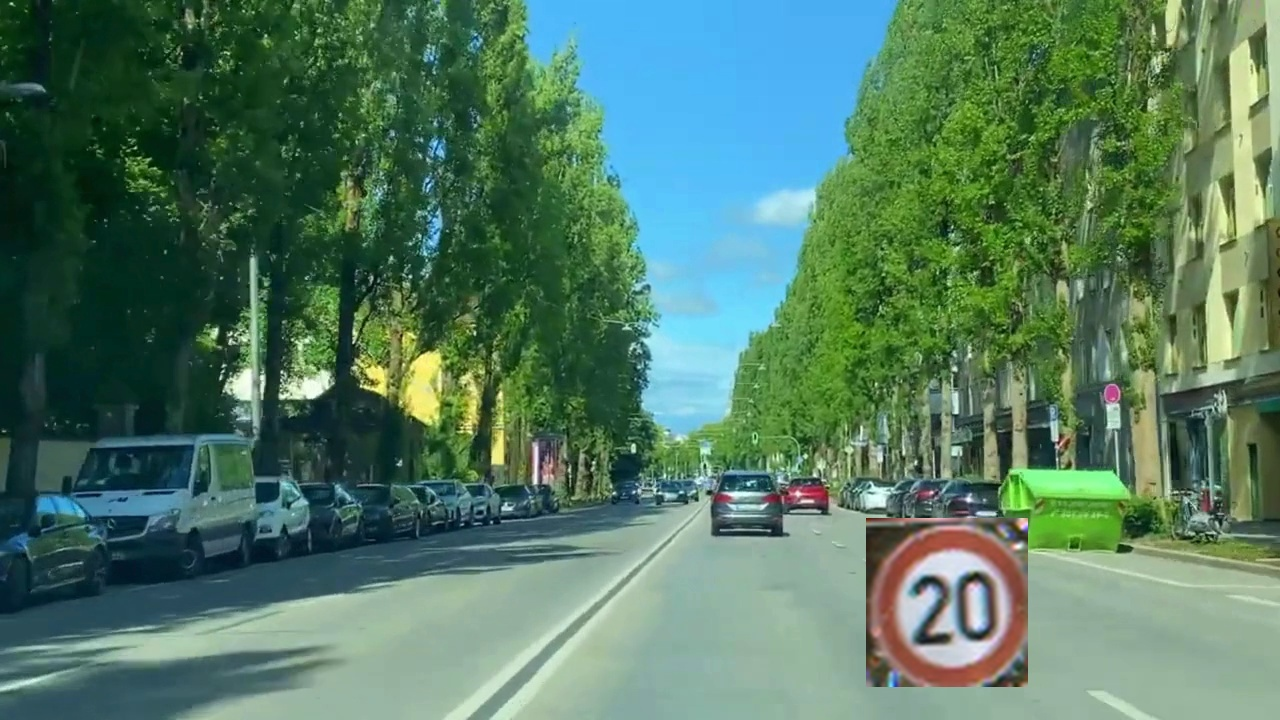Speed 20: (866, 518, 1028, 687)
